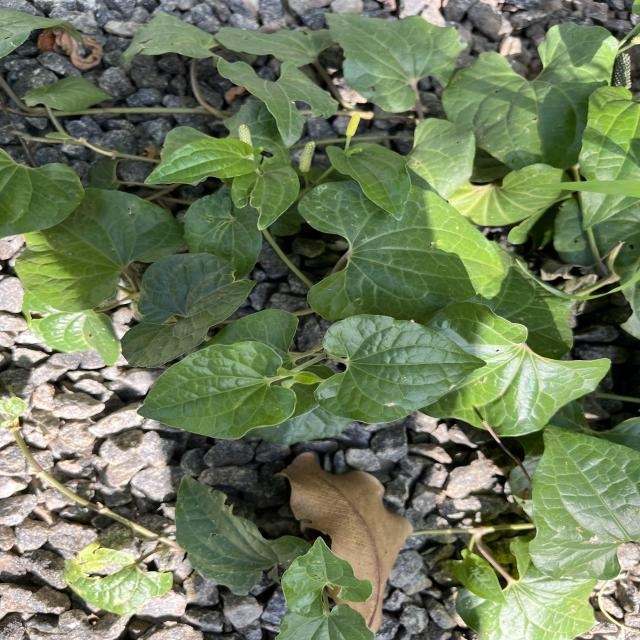Piper longum: (296, 178, 510, 322), (312, 312, 489, 426), (133, 338, 300, 442)
